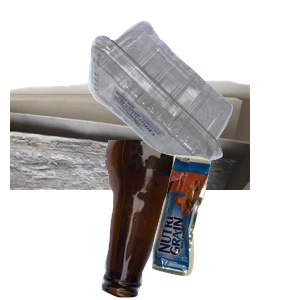glass: (99, 140, 300, 300)
paper: (10, 77, 250, 257)
plastic: (86, 18, 300, 171)
trash: (149, 152, 300, 300)
